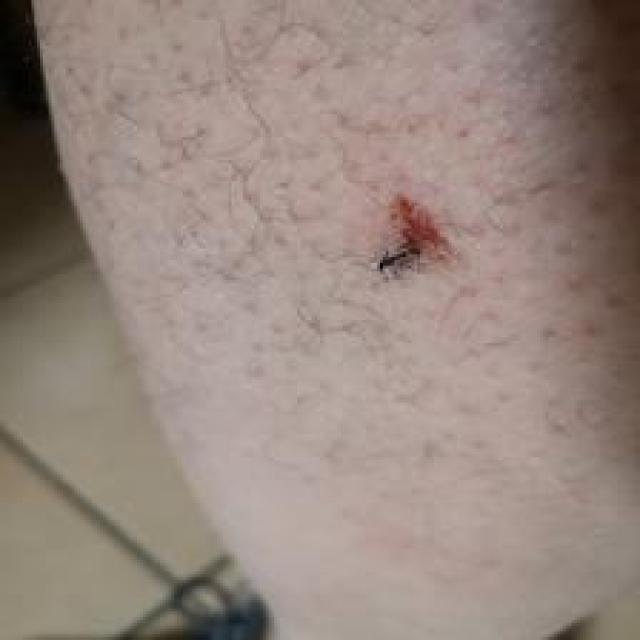Aedes albopictus: (374, 191, 457, 280)
